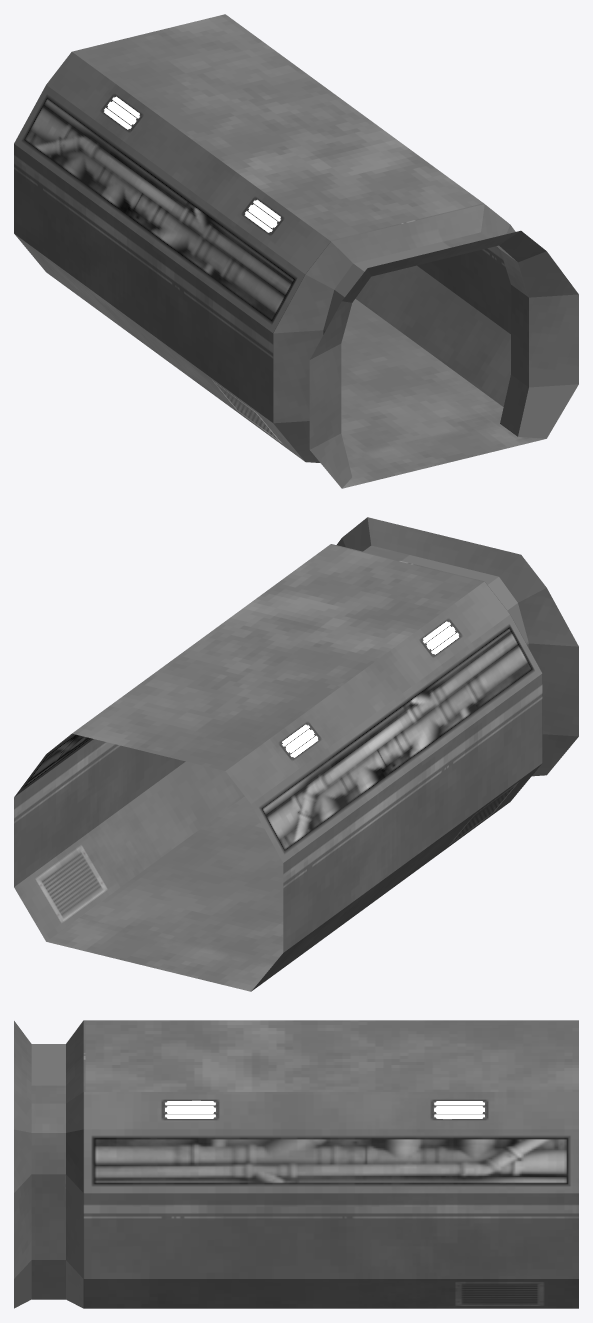
Rendered from hallway_oct_tex.fbx.
3 renders of one model, top to bottom at view 1: azimuth 30°, elevation 25°; view 2: azimuth 150°, elevation 25°; view 3: azimuth 270°, elevation 25°, orthographic. The views are drawn at different scales.
Visible parts, largest first — view 1: hallway_oct; view 2: hallway_oct; view 3: hallway_oct.
Part boxes in pixels (left/top/right/bottom): hallway_oct: left=14, top=14, right=578, bottom=488; hallway_oct: left=14, top=517, right=578, bottom=991; hallway_oct: left=14, top=1020, right=578, bottom=1308.
Bounding box in the file's own units: 526 × 400 × 1000.
1 material, 1 textured.
